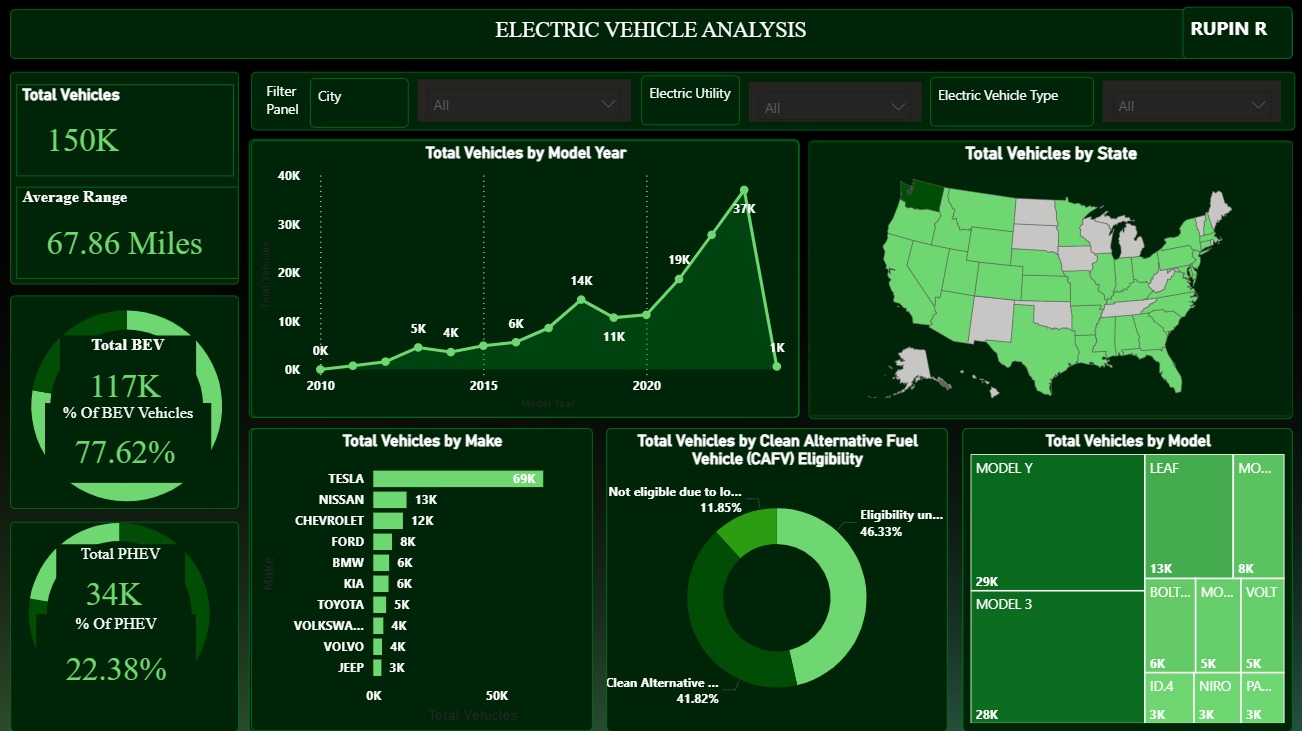

The dashboard page shown, as its layout file describes it:
{"tool":"powerbi","page":{"name":"Page 2","canvas":[1280,720],"ordinal":1},"visuals":[{"type":"textbox","box":[9.8,11,1258.9,49.1],"z":0},{"type":"textbox","box":[9.8,72.4,224.5,208.6],"z":1000},{"type":"textbox","box":[9.8,292,224.5,209.8],"z":2000},{"type":"textbox","box":[9.8,514.1,224.5,206.1],"z":3000},{"type":"textbox","box":[244.2,138.7,541.1,273.6],"z":4000},{"type":"textbox","box":[793.9,139.9,474.8,273.6],"z":5000},{"type":"textbox","box":[244.2,422.1,335,298.2],"z":6000},{"type":"textbox","box":[595.1,422.1,335,298.2],"z":7000},{"type":"textbox","box":[944.8,422.1,323.9,298.2],"z":8000},{"type":"textbox","box":[246.6,72.4,1024.5,57.7],"z":9000},{"type":"cardVisual","title":"Total Vehicles","fields":{"Data":["Electric_Vehicle_Population_Data.Total Vehicles"]},"box":[16,84.7,213.5,90.8],"z":10000},{"type":"cardVisual","title":"Average Range","fields":{"Data":["Electric_Vehicle_Population_Data.Avg range"]},"box":[16,185.3,218.4,90.8],"z":11000},{"type":"donutChart","fields":{"Category":["Electric_Vehicle_Population_Data.Electric Vehicle Type"],"Y":["Electric_Vehicle_Population_Data.Total Vehicles"]},"box":[2.5,265,244.2,271.2],"z":12000},{"type":"cardVisual","title":"Total BEV ","fields":{"Data":["Electric_Vehicle_Population_Data.BEV Vehicles"]},"box":[58.9,331.3,133.7,81],"z":13000},{"type":"cardVisual","title":"% Of BEV Vehicles","fields":{"Data":["Electric_Vehicle_Population_Data.% of BEV vehicles"]},"box":[44.2,397.5,163.2,78.5],"z":14000},{"type":"donutChart","fields":{"Category":["Electric_Vehicle_Population_Data.Electric Vehicle Type"],"Y":["Electric_Vehicle_Population_Data.Total Vehicles"]},"box":[0,488.3,234.4,231.9],"z":15000},{"type":"textbox","box":[256.4,77.3,47.9,49.1],"z":16000},{"type":"textbox","box":[304.3,78.5,96.9,49.1],"z":17000},{"type":"textbox","box":[629.5,76.1,96.9,49.1],"z":18000},{"type":"textbox","box":[912.9,77.3,160.7,49.1],"z":19000},{"type":"slicer","fields":{"Values":["Electric_Vehicle_Population_Data.City"]},"box":[409.8,79.8,209.8,41.7],"z":20000},{"type":"slicer","fields":{"Values":["Electric_Vehicle_Population_Data.Electric Utility"]},"box":[735,82.2,169.3,39.3],"z":21000},{"type":"slicer","fields":{"Values":["Electric_Vehicle_Population_Data.Electric Vehicle Type"]},"box":[1082.2,81,175.5,40.5],"z":22000},{"type":"cardVisual","title":"Total PHEV","fields":{"Data":["Electric_Vehicle_Population_Data.Phev vehicle"]},"box":[55.2,536.2,126.4,77.3],"z":23000},{"type":"cardVisual","title":"% Of PHEV","fields":{"Data":["Electric_Vehicle_Population_Data.% of PHEV Vehicle"]},"box":[35.6,604.9,157.1,88.3],"z":24000},{"type":"areaChart","fields":{"Category":["Electric_Vehicle_Population_Data.Model Year"],"Y":["Electric_Vehicle_Population_Data.Total Vehicles"]},"box":[247,140,537.9,271.7],"z":25000},{"type":"shapeMap","fields":{"Category":["Electric_Vehicle_Population_Data.State"],"Value":["Electric_Vehicle_Population_Data.Total Vehicles"]},"box":[793.9,141.1,474.8,269.9],"z":25001},{"type":"barChart","fields":{"Y":["Electric_Vehicle_Population_Data.Total Vehicles"],"Category":["Electric_Vehicle_Population_Data.Make"]},"box":[247,422.6,334.8,297.8],"z":25002},{"type":"donutChart","fields":{"Category":["Electric_Vehicle_Population_Data.Clean Alternative Fuel Vehicle (CAFV) Eligibility"],"Y":["Electric_Vehicle_Population_Data.Total Vehicles"]},"box":[595.1,422.1,335,298.2],"z":25003},{"type":"treemap","fields":{"Group":["Electric_Vehicle_Population_Data.Model"],"Values":["Electric_Vehicle_Population_Data.Total Vehicles"]},"box":[944.8,422.1,323.9,298.2],"z":25004},{"type":"textbox","box":[1160.7,8.6,108,51.5],"z":25005}]}

Visuals, with their boxes in screenshot pixels (x1, y1, x2, y2), scaled from the page's 1280x720 canvas onto the 1302x731 screenshot:
textbox: <bbox>10, 11, 1291, 61</bbox>
textbox: <bbox>10, 74, 238, 285</bbox>
textbox: <bbox>10, 296, 238, 509</bbox>
textbox: <bbox>10, 522, 238, 730</bbox>
textbox: <bbox>248, 141, 799, 419</bbox>
textbox: <bbox>808, 142, 1291, 420</bbox>
textbox: <bbox>248, 429, 589, 730</bbox>
textbox: <bbox>605, 429, 946, 730</bbox>
textbox: <bbox>961, 429, 1291, 730</bbox>
textbox: <bbox>251, 74, 1293, 132</bbox>
"Total Vehicles" cardVisual: <bbox>16, 86, 233, 178</bbox>
"Average Range" cardVisual: <bbox>16, 188, 238, 280</bbox>
donutChart - Electric_Vehicle_Population_Data.Electric Vehicle Type x Electric_Vehicle_Population_Data.Total Vehicles: <bbox>3, 269, 251, 544</bbox>
"Total BEV " cardVisual: <bbox>60, 336, 196, 419</bbox>
"% Of BEV Vehicles" cardVisual: <bbox>45, 404, 211, 483</bbox>
donutChart - Electric_Vehicle_Population_Data.Electric Vehicle Type x Electric_Vehicle_Population_Data.Total Vehicles: <bbox>0, 496, 238, 730</bbox>
textbox: <bbox>261, 78, 310, 128</bbox>
textbox: <bbox>310, 80, 408, 130</bbox>
textbox: <bbox>640, 77, 739, 127</bbox>
textbox: <bbox>929, 78, 1092, 128</bbox>
slicer - Electric_Vehicle_Population_Data.City: <bbox>417, 81, 630, 123</bbox>
slicer - Electric_Vehicle_Population_Data.Electric Utility: <bbox>748, 83, 920, 123</bbox>
slicer - Electric_Vehicle_Population_Data.Electric Vehicle Type: <bbox>1101, 82, 1279, 123</bbox>
"Total PHEV" cardVisual: <bbox>56, 544, 185, 623</bbox>
"% Of PHEV" cardVisual: <bbox>36, 614, 196, 704</bbox>
areaChart - Electric_Vehicle_Population_Data.Model Year x Electric_Vehicle_Population_Data.Total Vehicles: <bbox>251, 142, 798, 418</bbox>
shapeMap - Electric_Vehicle_Population_Data.State x Electric_Vehicle_Population_Data.Total Vehicles: <bbox>808, 143, 1291, 417</bbox>
barChart - Electric_Vehicle_Population_Data.Total Vehicles x Electric_Vehicle_Population_Data.Make: <bbox>251, 429, 592, 730</bbox>
donutChart - Electric_Vehicle_Population_Data.Clean Alternative Fuel Vehicle (CAFV) Eligibility x Electric_Vehicle_Population_Data.Total Vehicles: <bbox>605, 429, 946, 730</bbox>
treemap - Electric_Vehicle_Population_Data.Model x Electric_Vehicle_Population_Data.Total Vehicles: <bbox>961, 429, 1291, 730</bbox>
textbox: <bbox>1181, 9, 1291, 61</bbox>
